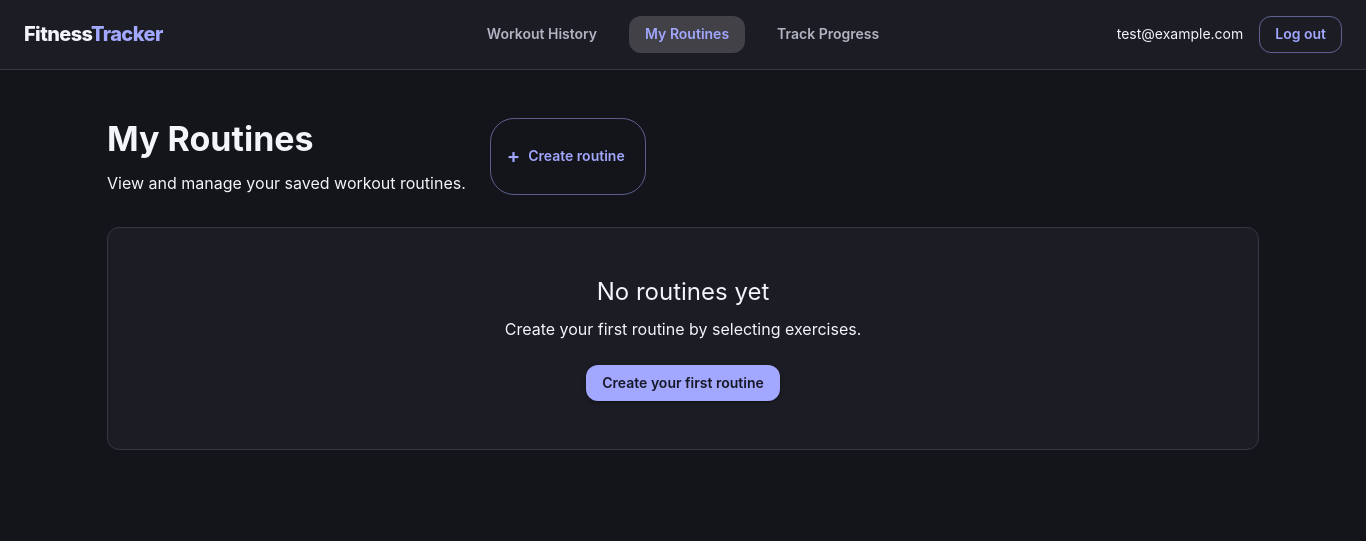
Test case: Routines › shows an empty state and links to routine creation
expect the heading "No routines yet" is shown: met, box [597,278,769,306]
Click the link "Create your first routine" at (683, 384), box [586,365,780,402]
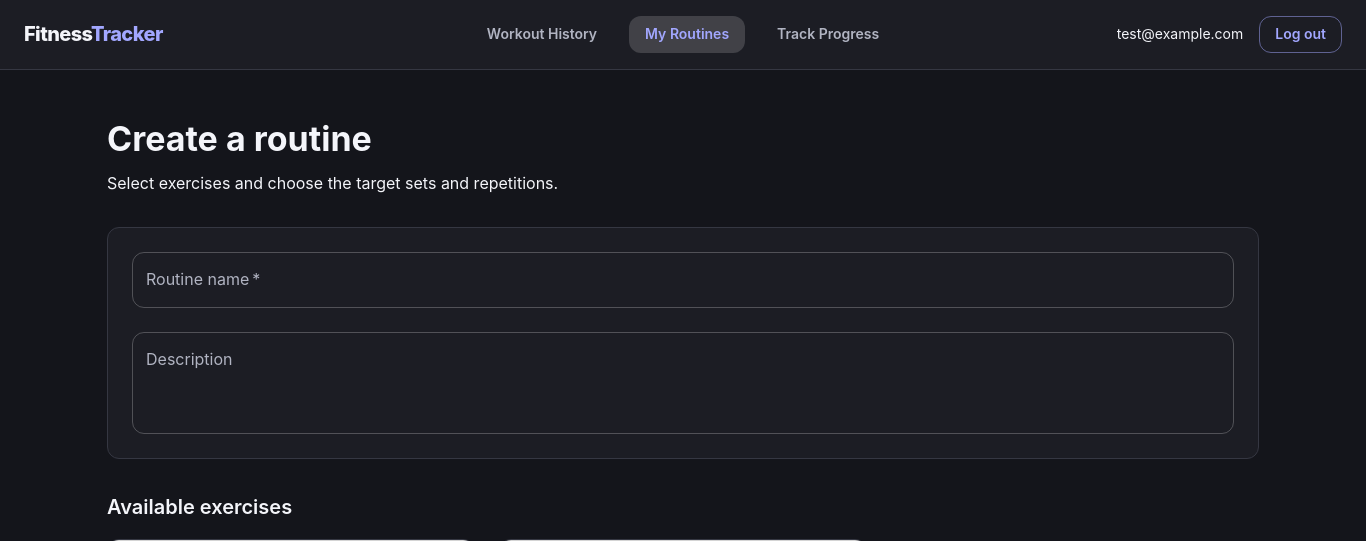
expect the heading "Create a routine" is shown: met, box [107,118,372,158]
